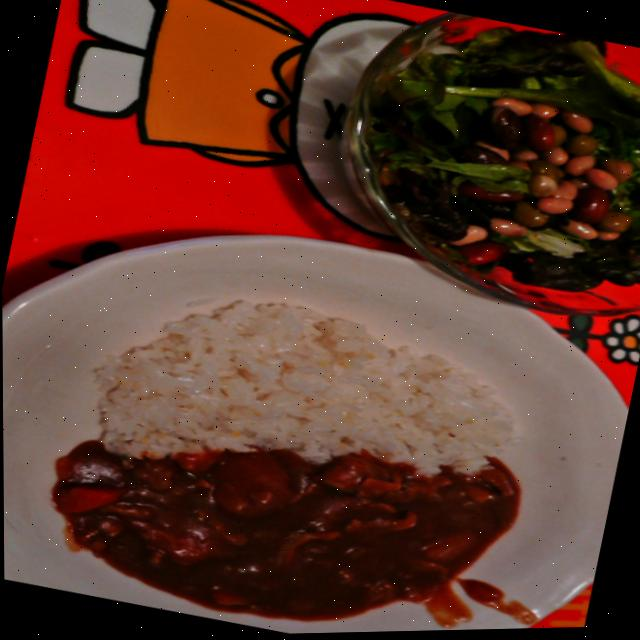牛肉菜式: (1, 158, 640, 640)
蔬菜料理: (300, 0, 640, 343)
